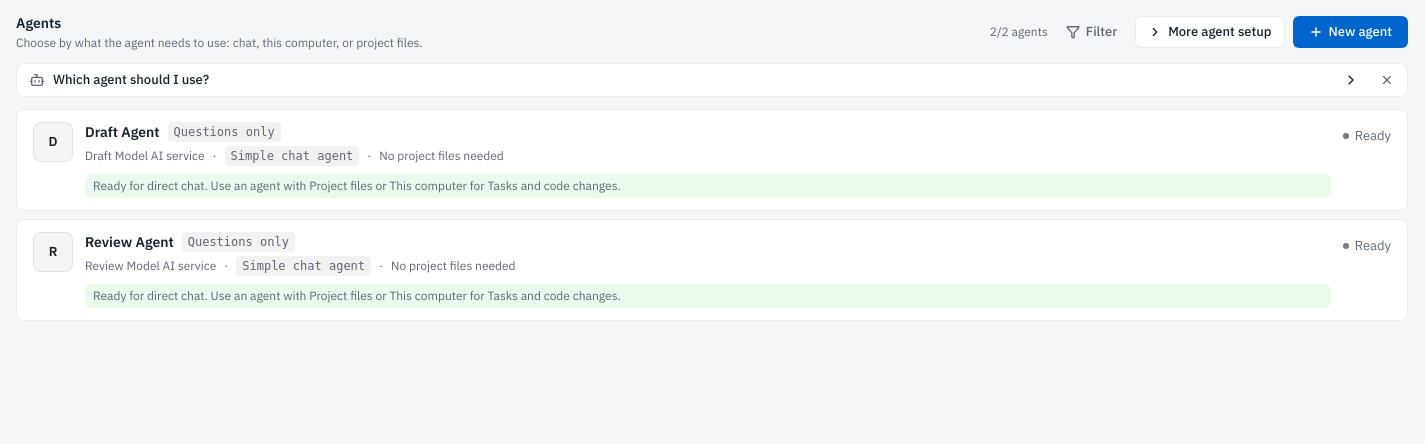
Test: AgentListView › hides fleet filters until the user opens them
The width and height of the screenshot is (1425, 444).
Expected: the text "Review Agent" is shown, left=85, top=232, right=174, bottom=252
Expected: the text "Draft Agent" is shown, left=85, top=122, right=160, bottom=142
Click the button "Filter". click: (1092, 32)
box: left=1056, top=16, right=1127, bottom=48
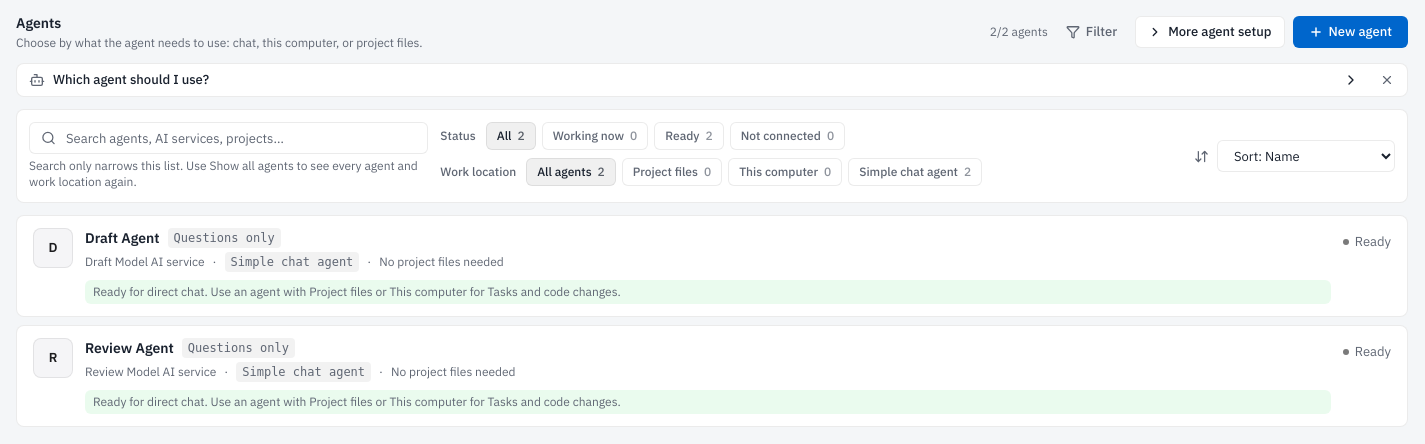
Expected: the element with test id "agent-fleet-controls" is shown, left=16, top=109, right=1408, bottom=203
Expected: the element named "status filter" is shown, left=440, top=122, right=845, bottom=150
Expected: the element named "work location filter" is shown, left=440, top=158, right=982, bottom=186
